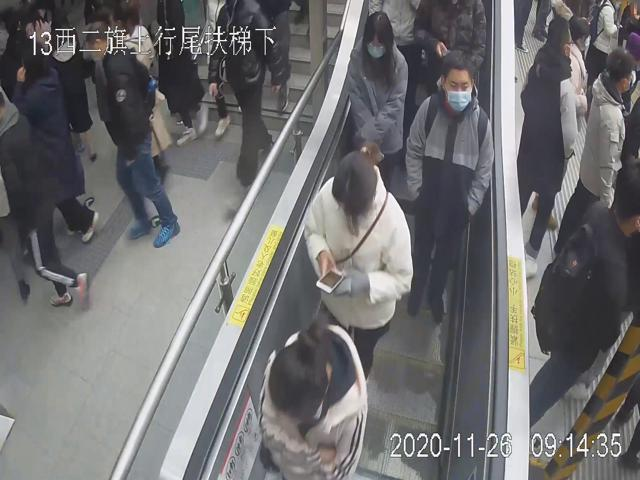person: (301, 140, 414, 389), (403, 50, 494, 323), (516, 17, 577, 281), (348, 8, 403, 196)
